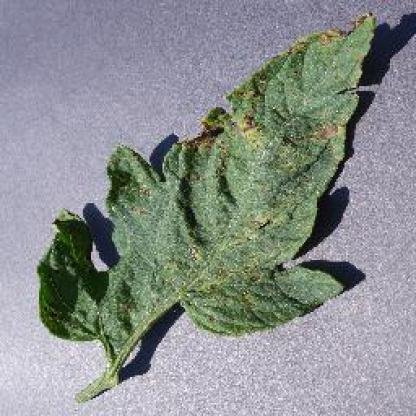bad leaf: (175, 86, 331, 191), (286, 13, 378, 68)
